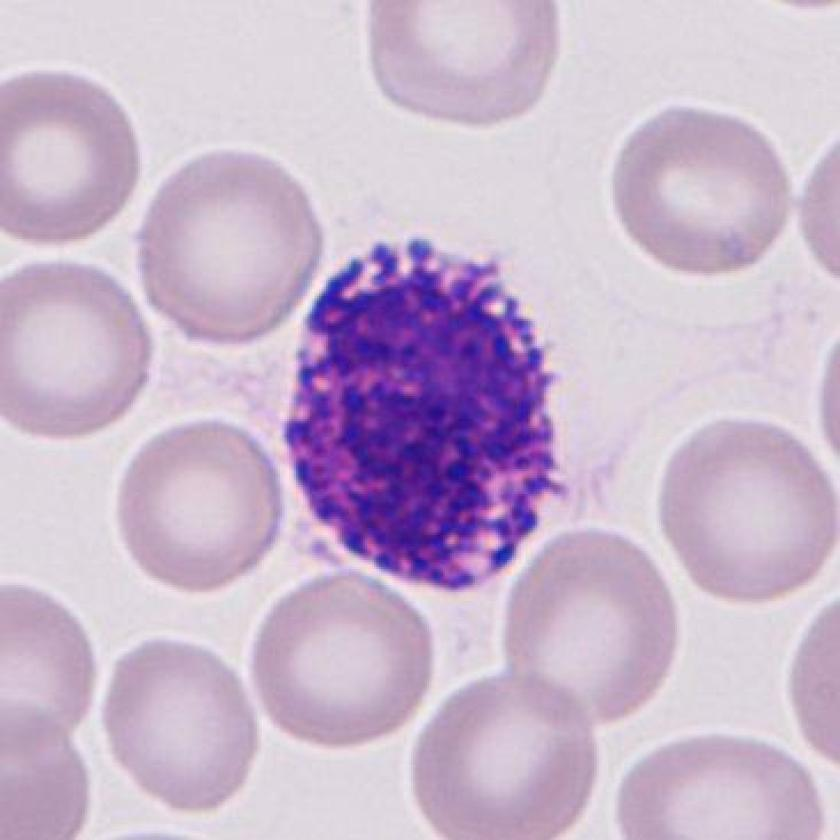basophil: (279, 224, 577, 595)
